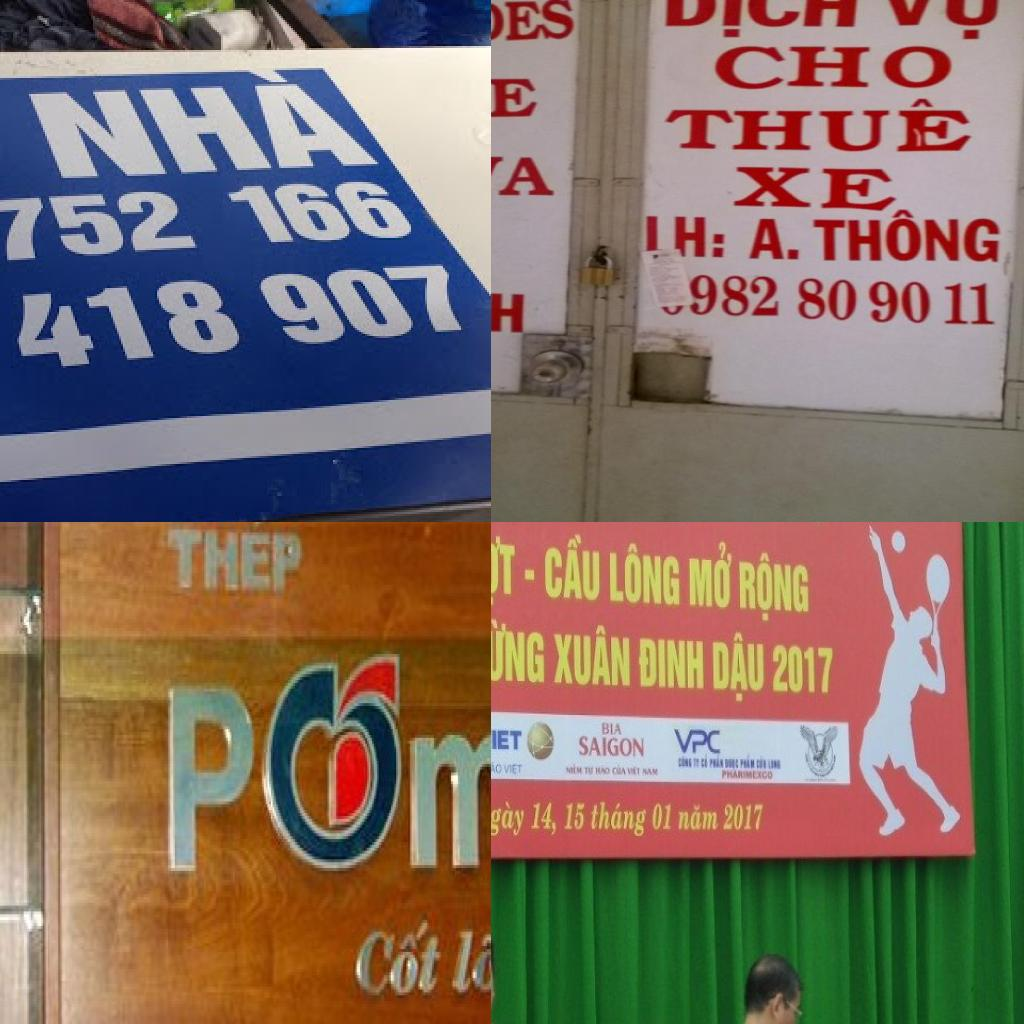text: (154, 645, 491, 885), (0, 180, 423, 290), (23, 66, 381, 182), (660, 95, 986, 154), (746, 210, 1003, 264), (709, 45, 954, 92), (164, 522, 306, 601), (352, 908, 450, 1010), (659, 0, 869, 40), (726, 167, 898, 212), (876, 0, 1012, 44), (738, 549, 811, 628), (552, 622, 634, 691), (608, 538, 683, 610), (543, 527, 602, 604), (690, 270, 781, 318), (639, 212, 728, 260), (711, 628, 767, 704), (491, 614, 546, 686), (637, 636, 707, 692), (447, 917, 491, 1006), (491, 0, 577, 45), (491, 531, 537, 611), (686, 537, 734, 611), (771, 644, 835, 698), (491, 153, 560, 197), (588, 799, 650, 842), (491, 287, 532, 343), (491, 77, 542, 121), (577, 735, 646, 759), (672, 726, 723, 758), (491, 799, 528, 840), (677, 802, 722, 833), (528, 799, 559, 839), (491, 726, 524, 753), (649, 802, 675, 833), (563, 800, 588, 832), (600, 720, 625, 738), (746, 769, 776, 782), (563, 762, 584, 778), (502, 762, 524, 776), (720, 769, 740, 782), (709, 754, 725, 770), (611, 764, 629, 778), (676, 756, 694, 770), (642, 766, 661, 779), (626, 764, 642, 778), (491, 760, 503, 776), (595, 766, 611, 778), (583, 764, 595, 778), (701, 752, 709, 772), (692, 756, 702, 770)
